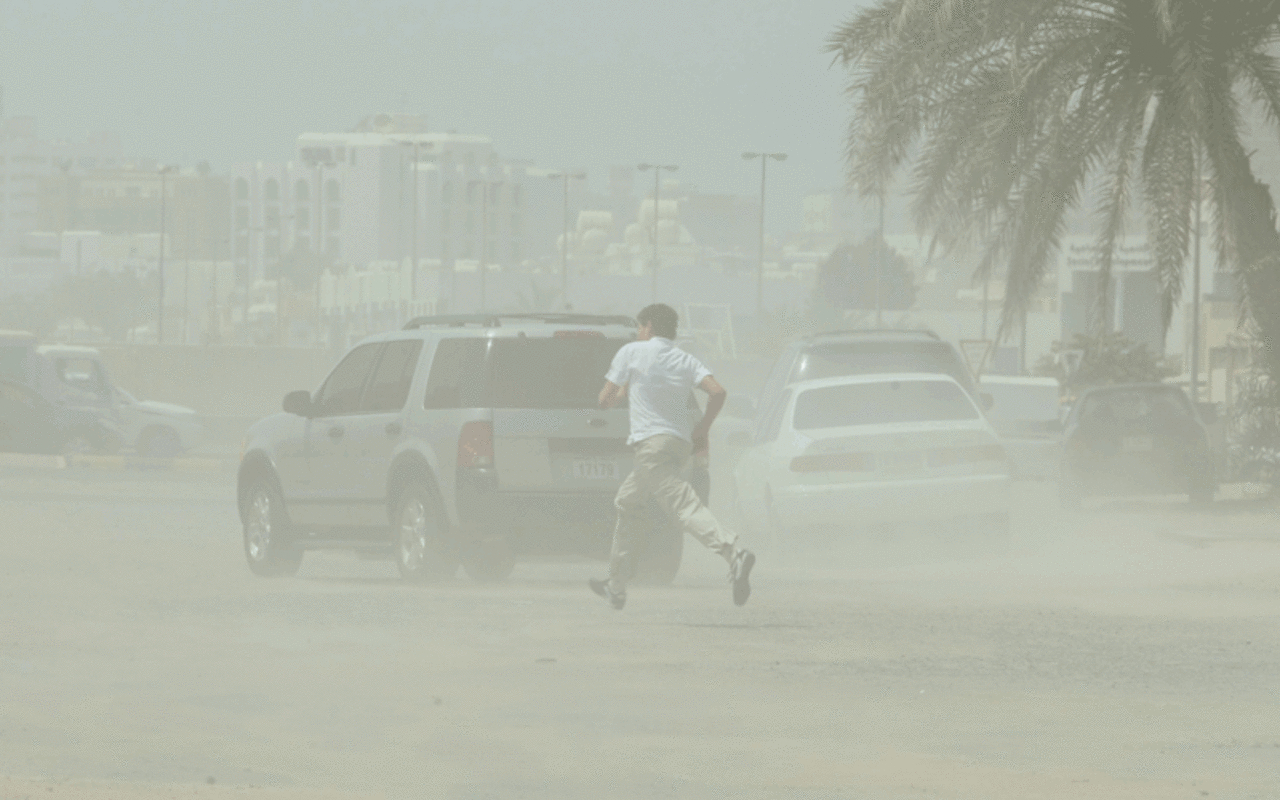car: (235, 309, 668, 577), (747, 380, 1008, 545), (752, 338, 995, 436), (1052, 379, 1223, 518), (1, 369, 123, 450)
person: (588, 305, 754, 603)
truck: (5, 327, 200, 448)
